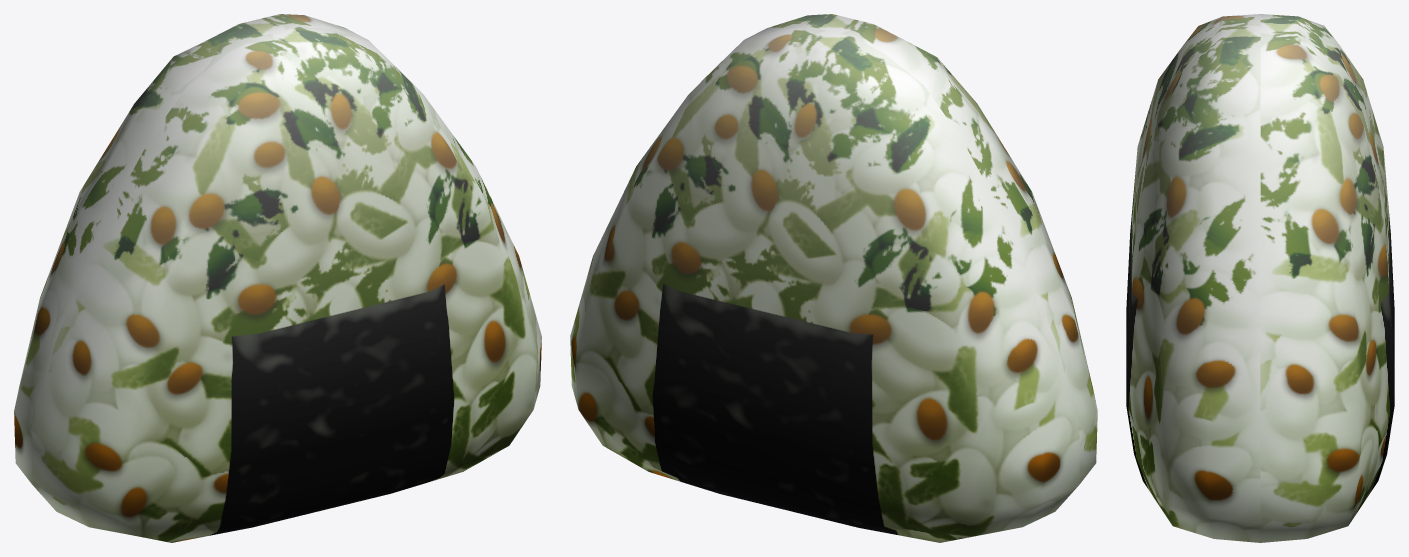
The model's file is 011-Onigiri6.FBX.
3 renders of one model, left to right at view 1: azimuth 30°, elevation 25°; view 2: azimuth 150°, elevation 25°; view 3: azimuth 270°, elevation 25°, orthographic. The views are drawn at different scales.
Parts seen in each view (by area): view 1: 011-Onigiri6; view 2: 011-Onigiri6; view 3: 011-Onigiri6.
Part boxes in pixels (<box>): 011-Onigiri6: <box>14,14,541,542</box>; 011-Onigiri6: <box>570,14,1097,542</box>; 011-Onigiri6: <box>1126,14,1394,542</box>.
Bounding box in the file's own units: 15.79 × 13.84 × 7.76.
